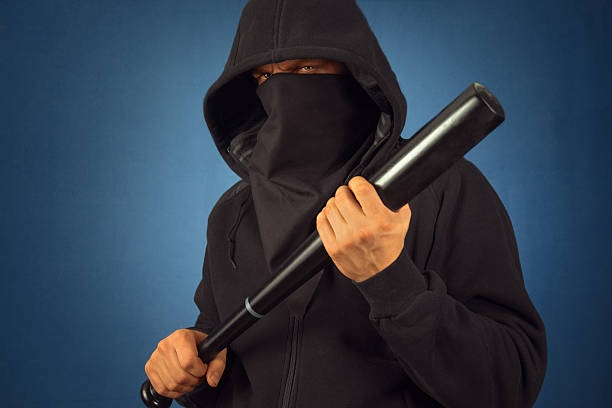bita: (137, 83, 513, 402)
